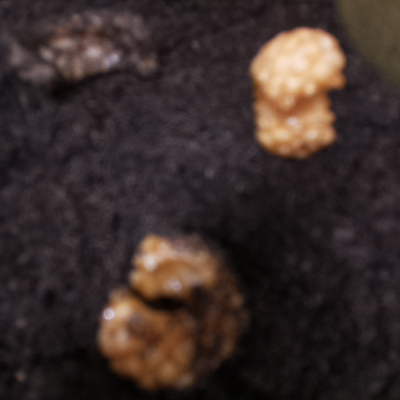eggs: (91, 225, 258, 395), (242, 23, 353, 163)
